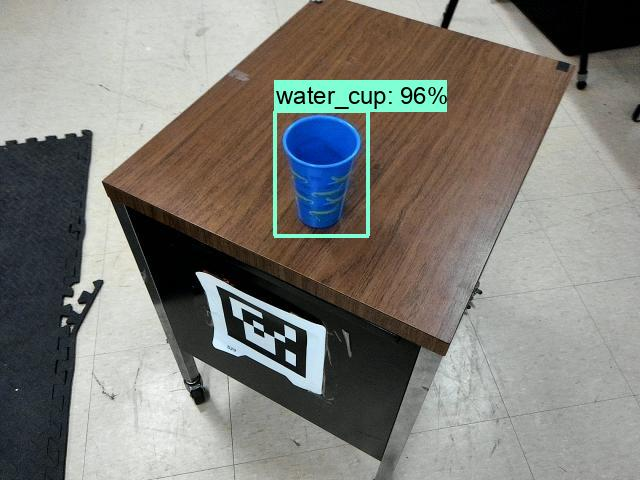water_cup: (269, 116, 367, 233)
